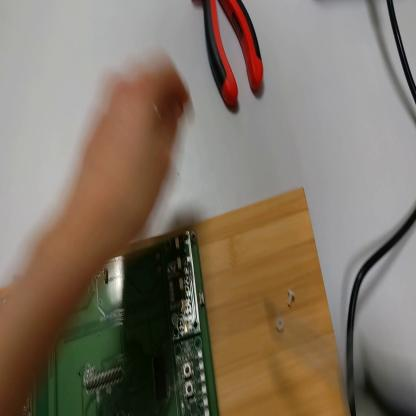hand: (68, 51, 198, 259)
low voltage board: (2, 235, 221, 416)
pliers: (192, 1, 265, 111)
working area: (1, 191, 353, 416)
